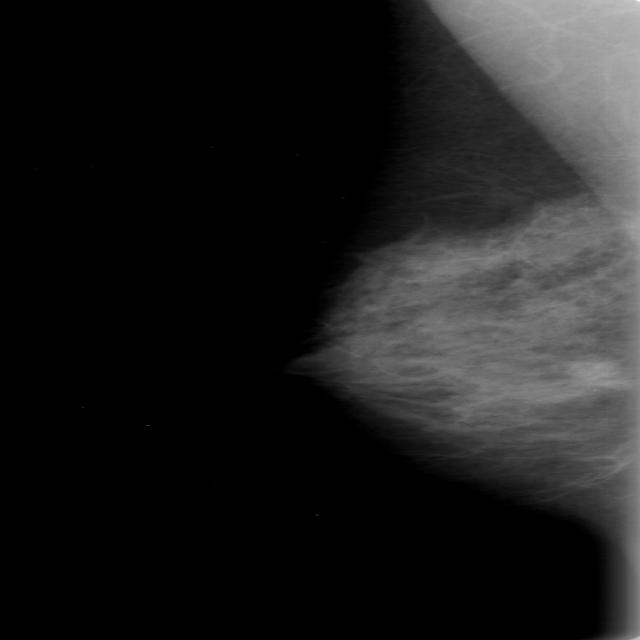normal: (264, 111, 640, 519)
